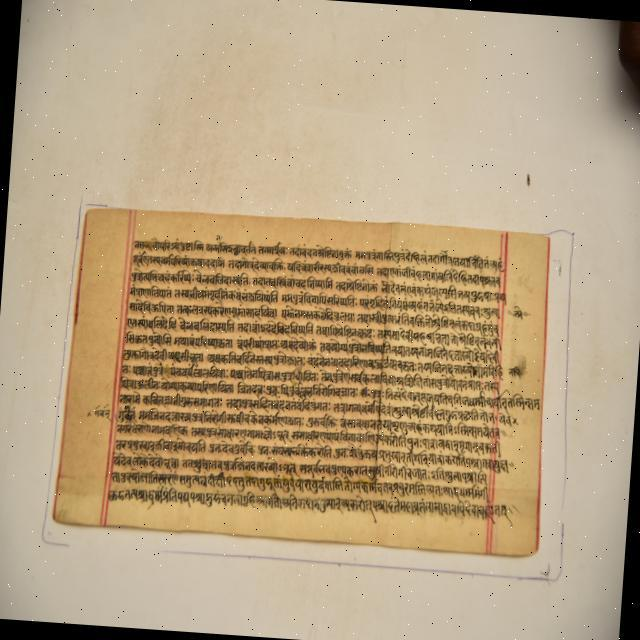text_paragraph: (52, 205, 548, 555)
